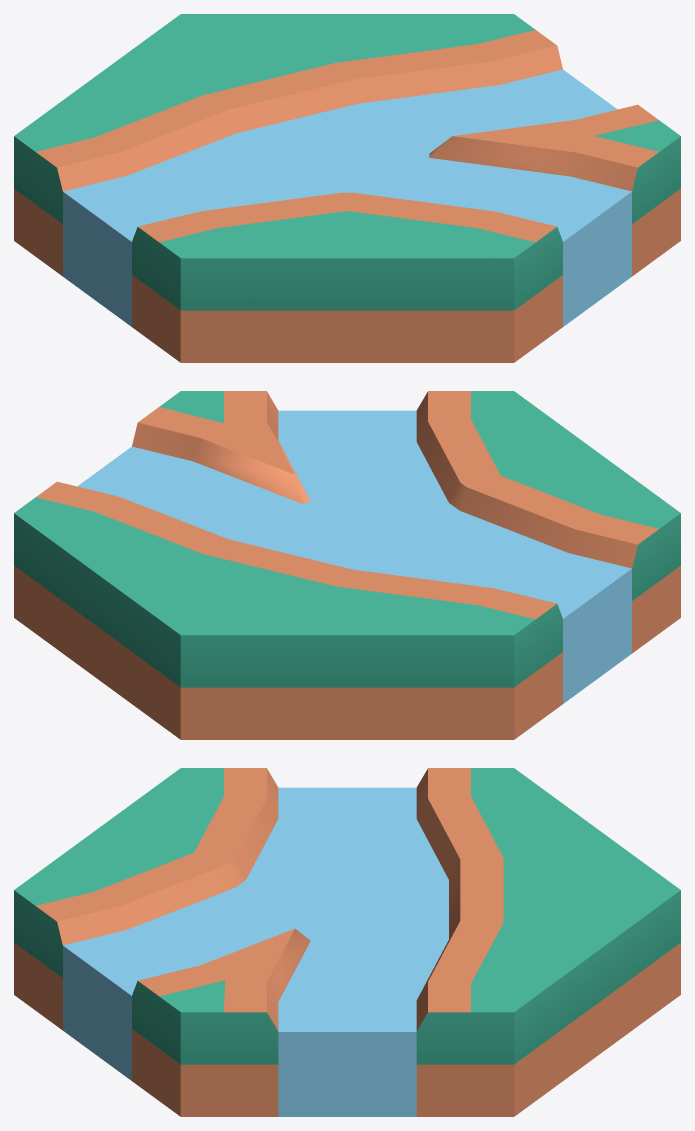
File: river-intersectionC.fbx
The picture shows the model from 3 angles, top to bottom: view 1: azimuth 30°, elevation 25°; view 2: azimuth 150°, elevation 25°; view 3: azimuth 270°, elevation 25°; orthographic projection.
Visible parts, largest first — view 1: river_intersectionC; view 2: river_intersectionC; view 3: river_intersectionC.
Part boxes in pixels (left/top/right/bottom): river_intersectionC: left=14, top=14, right=680, bottom=362; river_intersectionC: left=14, top=391, right=680, bottom=739; river_intersectionC: left=14, top=768, right=680, bottom=1116.
Size of the model in its own units: 100 by 20 by 115.
Materials: 1 (1 with a texture image).
